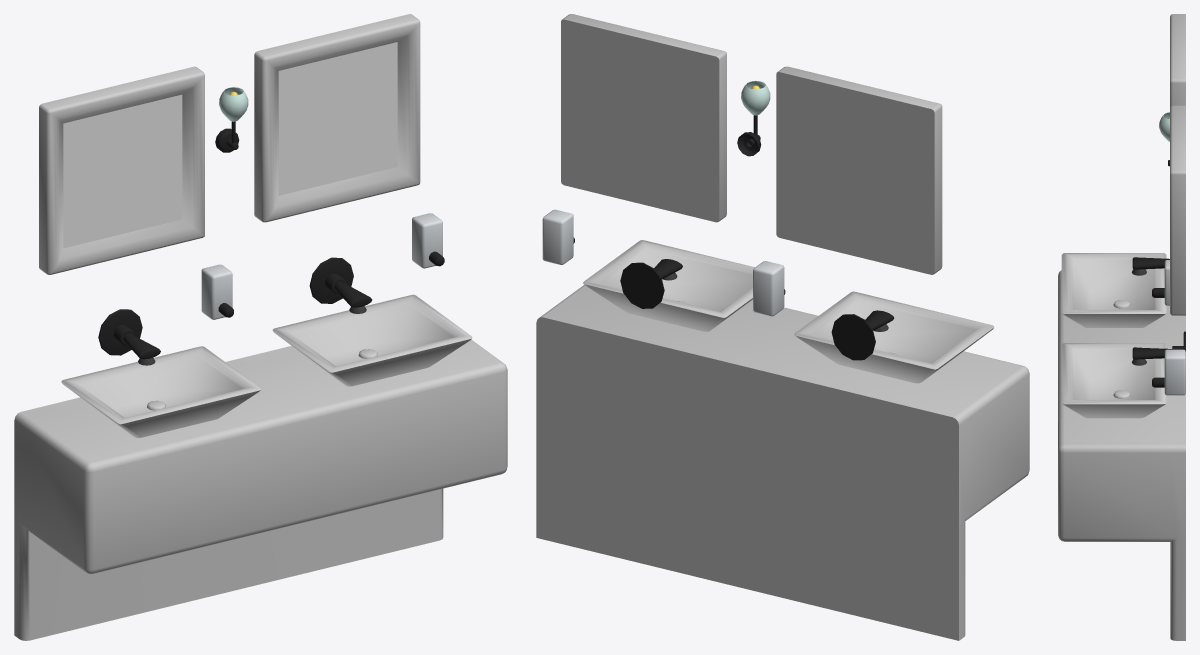
The model's file is Sink.fbx.
The picture shows the model from 3 angles, left to right: view 1: azimuth 30°, elevation 25°; view 2: azimuth 150°, elevation 25°; view 3: azimuth 270°, elevation 25°; orthographic projection. The views are drawn at different scales.
Visible parts, largest first — view 1: Sink, Sconce-Mirror-2, Sconce-Mirror-1, Sink-fountain-1, Sink-fountain-2, Sink-Soap-Dispenser-2, Sink-Soap-Dispenser-2.001, Sink-Sconce; view 2: Sink, Sconce-Mirror-1, Sconce-Mirror-2, Sink-fountain-2, Sink-fountain-1, Sink-Soap-Dispenser-2, Sink-Soap-Dispenser-2.001, Sink-Sconce; view 3: Sink, Sconce-Mirror-2, Sconce-Mirror-1, Sink-Soap-Dispenser-2.001, Sink-fountain-2, Sink-fountain-1, Sink-Soap-Dispenser-2, Sink-Sconce.
Boxes of the visible parts, x1,y1,x2,y2 form: Sink: [14, 294, 507, 640]; Sconce-Mirror-2: [254, 14, 420, 222]; Sconce-Mirror-1: [39, 66, 204, 274]; Sink-fountain-1: [98, 309, 160, 365]; Sink-fountain-2: [309, 257, 372, 313]; Sink-Soap-Dispenser-2: [201, 264, 233, 319]; Sink-Soap-Dispenser-2.001: [412, 213, 444, 268]; Sink-Sconce: [215, 87, 248, 152]; Sink: [536, 240, 1029, 640]; Sconce-Mirror-1: [776, 66, 942, 274]; Sconce-Mirror-2: [561, 14, 726, 222]; Sink-fountain-2: [620, 259, 682, 308]; Sink-fountain-1: [831, 310, 894, 360]; Sink-Soap-Dispenser-2: [753, 261, 785, 316]; Sink-Soap-Dispenser-2.001: [542, 209, 574, 264]; Sink-Sconce: [737, 80, 770, 156]; Sink: [1058, 253, 1185, 640]; Sconce-Mirror-2: [1170, 105, 1185, 315]; Sconce-Mirror-1: [1170, 14, 1185, 107]; Sink-Soap-Dispenser-2.001: [1152, 349, 1185, 395]; Sink-fountain-2: [1132, 331, 1185, 365]; Sink-fountain-1: [1132, 257, 1169, 275]; Sink-Soap-Dispenser-2: [1152, 260, 1169, 305]; Sink-Sconce: [1159, 112, 1169, 166].
Bounding box in the file's own units: 2 × 2.38 × 0.6.
